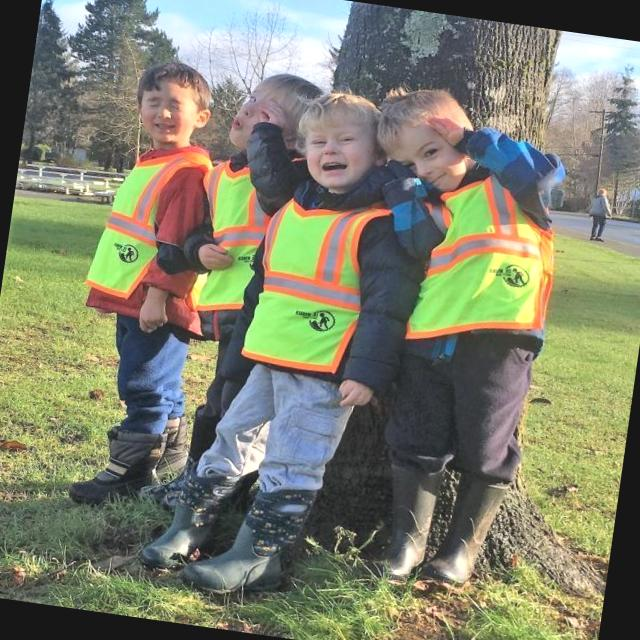no-helmet: (368, 75, 514, 222), (216, 43, 320, 172), (292, 80, 404, 196), (129, 42, 230, 165)
vest: (247, 168, 381, 386), (418, 177, 555, 346), (81, 132, 198, 318), (186, 142, 270, 324)
